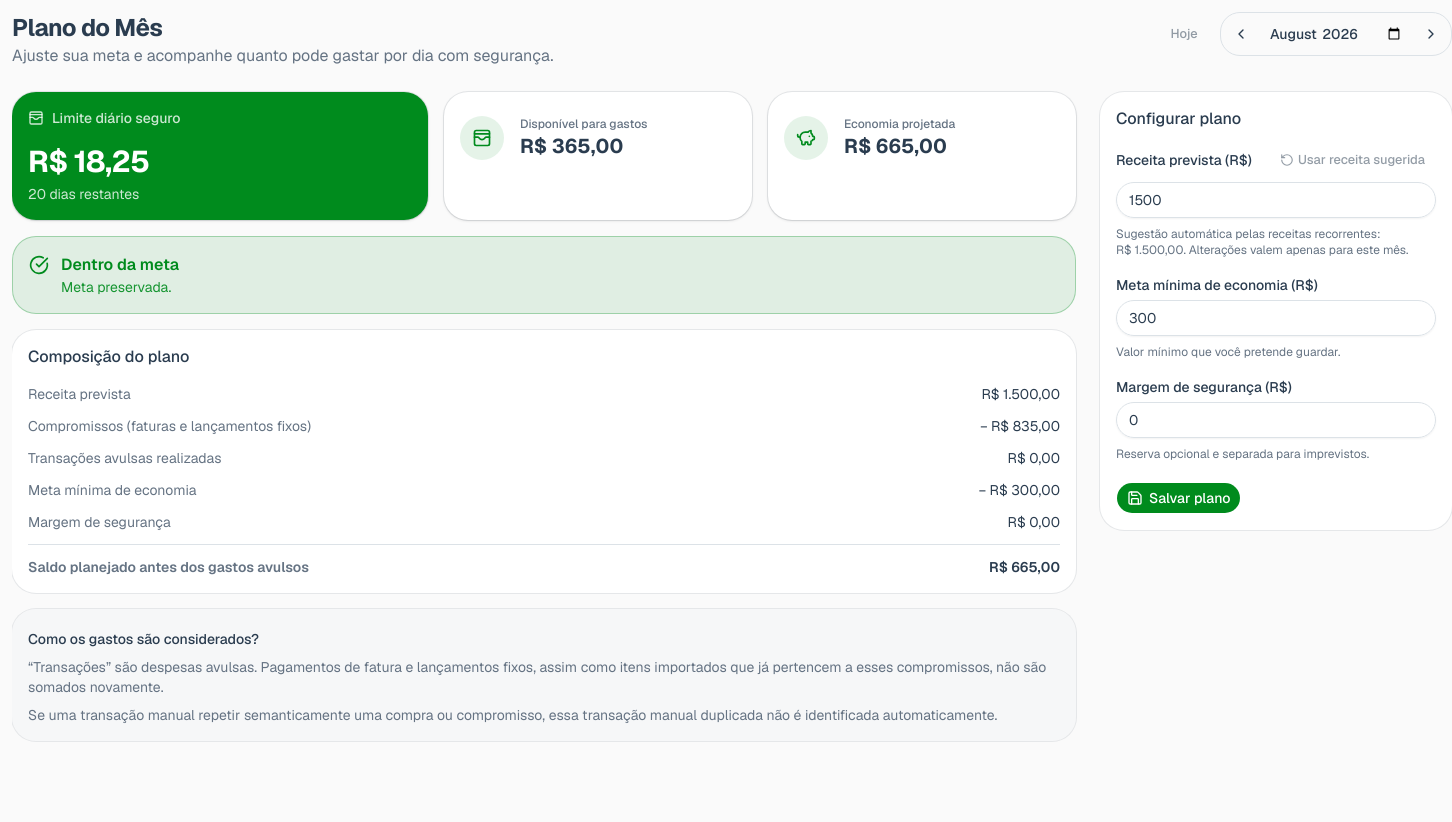
Test: MonthlyPlanPage › envia somente configuração editável e mostra projeção devolvida pelo PUT
The image size is (1452, 822).
Expected: the text "R$ 18,25" is shown, left=28, top=142, right=150, bottom=181
Replace the text in the number field labelled "Meta mínima de economia (R$)" with "350". click: (1276, 318)
box: left=1116, top=300, right=1436, bottom=336
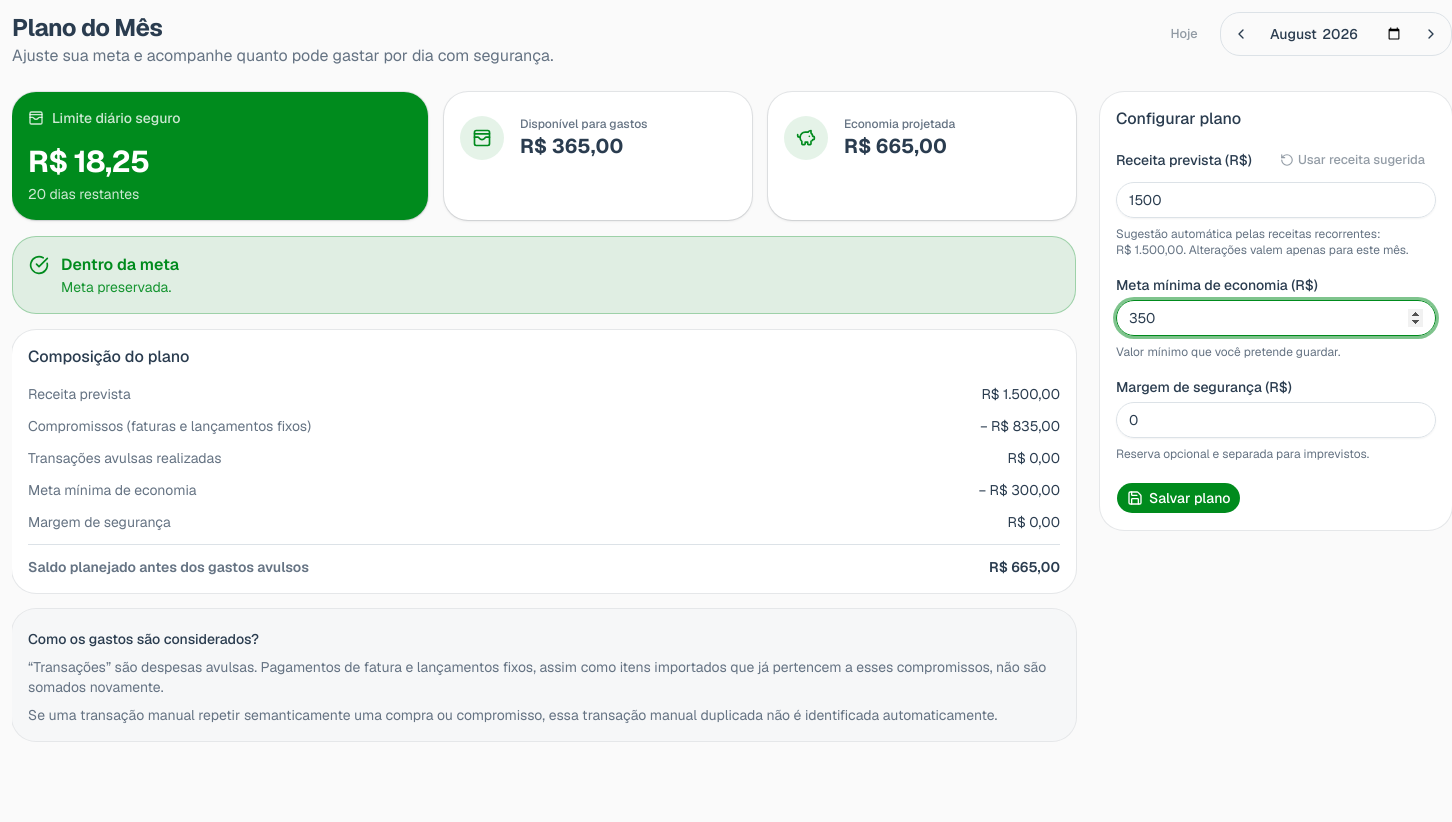
Click the button "Salvar plano". click: (1179, 498)
box: left=1116, top=482, right=1242, bottom=514
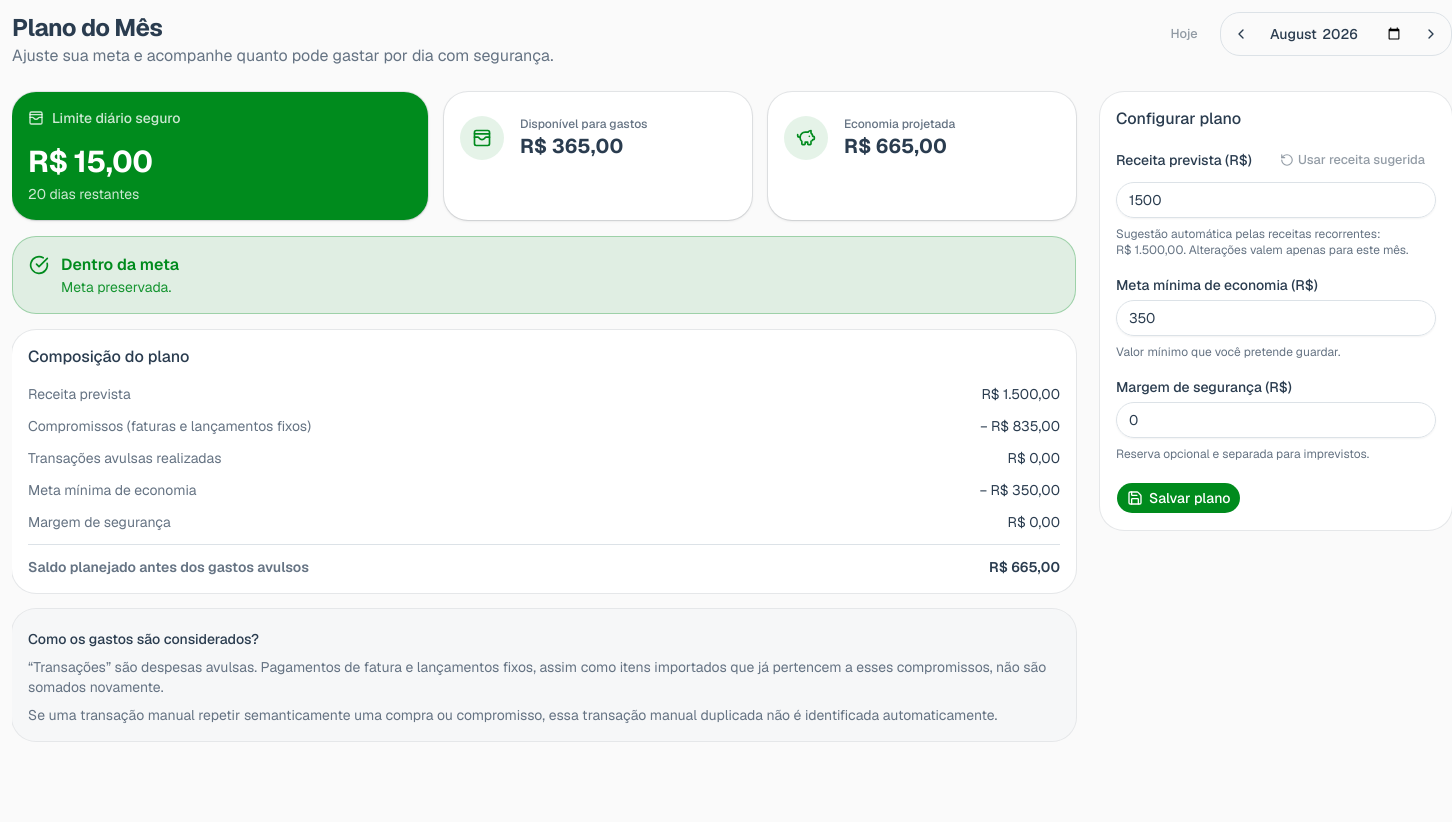
Expected: the text "R$ 15,00" is shown, left=28, top=142, right=152, bottom=181
